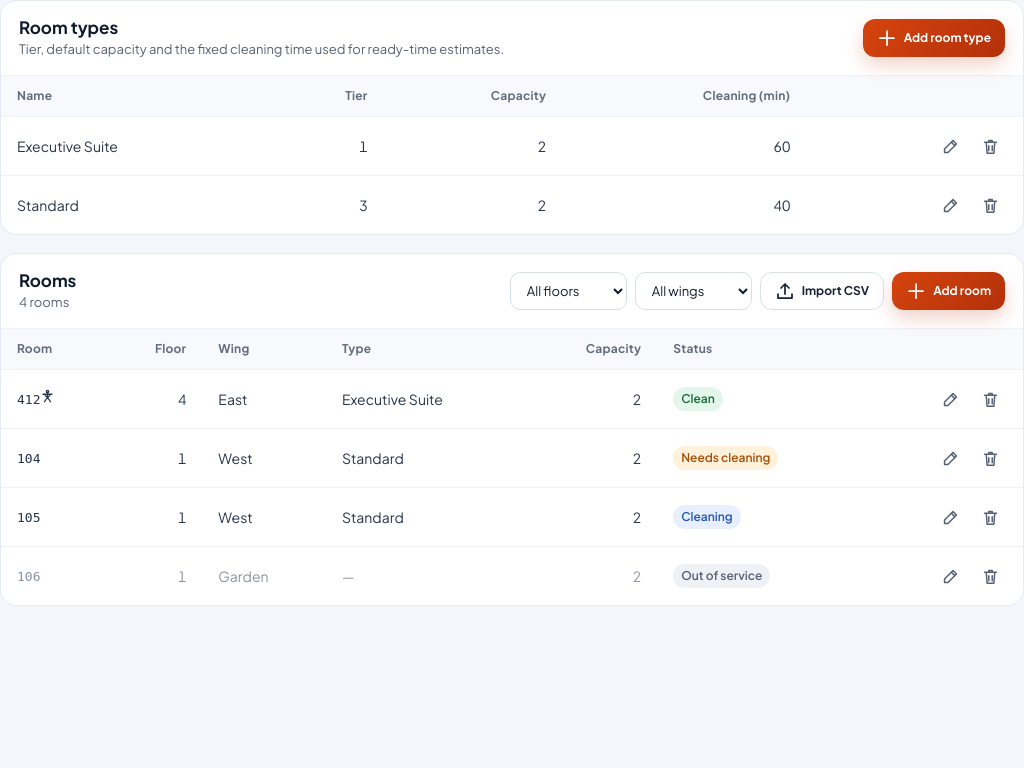
Test: RoomsTab › deletes a room after confirmation
Check: the text "4 rooms" is shown, box [19,292,76,312]
Click the button named "Delete room 104" at point(990, 458), box [973,441,1007,475]
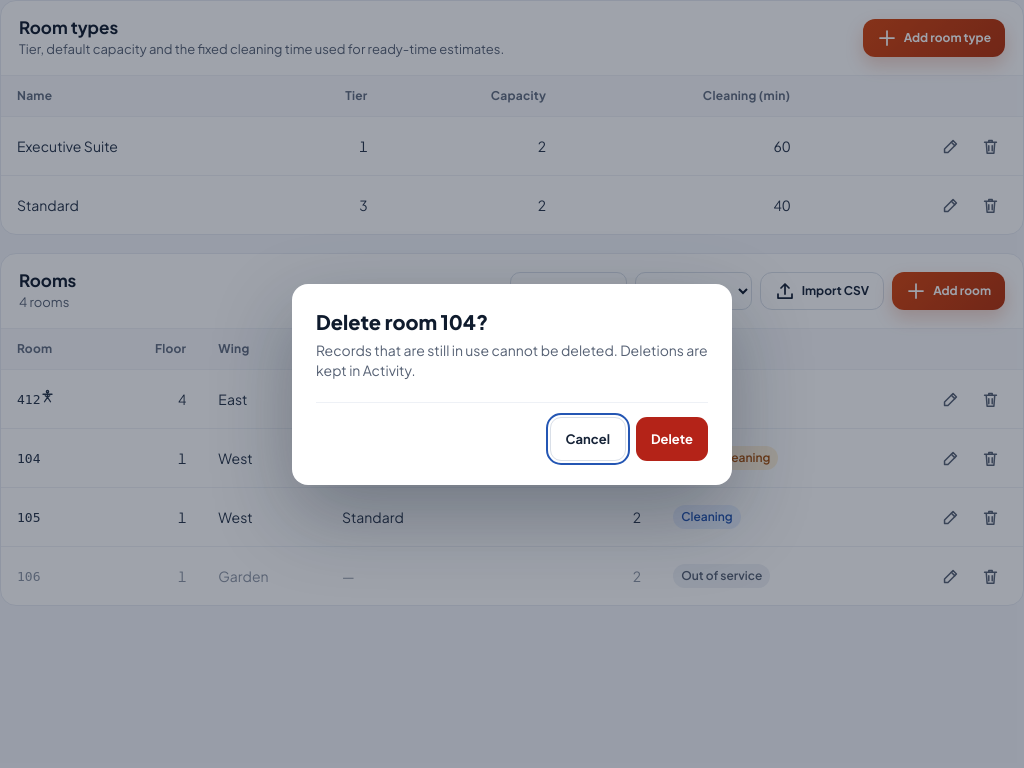
Check: the text "Records that are still in use cannot be deleted" is shown, box [316,340,708,378]
Click the button "Delete" at point(672, 438), box [636,416,708,460]
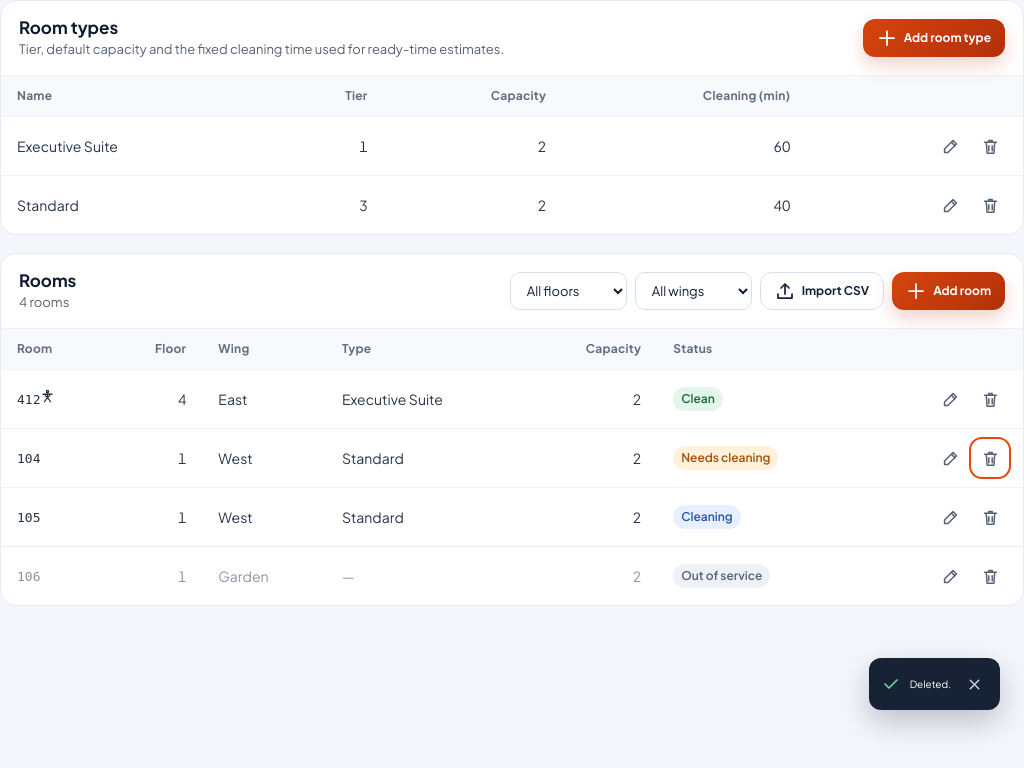
Check: the text "Deleted." is shown, box [910,674,951,694]
